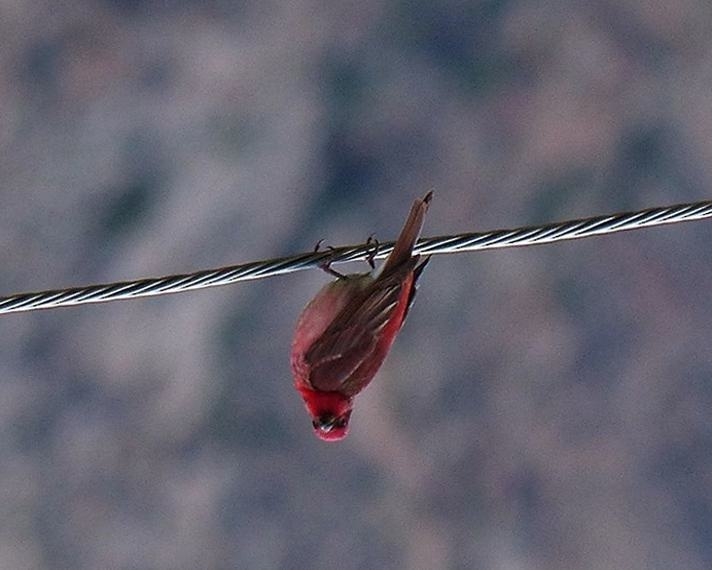rosefinch: (272, 180, 449, 470)
